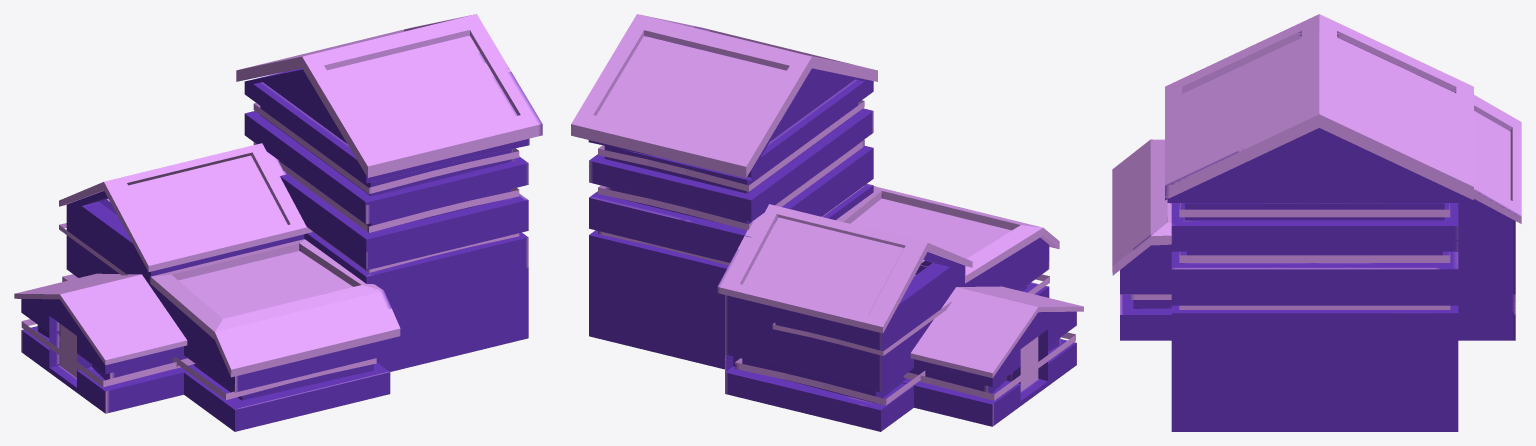
Rendered from house_03.obj.
3 renders of one model, left to right at view 1: azimuth 30°, elevation 25°; view 2: azimuth 150°, elevation 25°; view 3: azimuth 270°, elevation 25°, orthographic. The views are drawn at different scales.
Parts seen in each view (by area): view 1: Cube_Cube.001; view 2: Cube_Cube.001; view 3: Cube_Cube.001.
Part boxes in pixels (x1,y1,x2,y2): Cube_Cube.001: (14,14,542,431); Cube_Cube.001: (571,14,1083,431); Cube_Cube.001: (1112,14,1521,431).
Size of the model in its own units: 7.74 by 5 by 5.71.
Materials: 1 (1 with a texture image).
